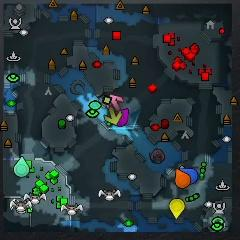p1: (179, 167, 199, 184)
p2: (14, 156, 29, 177)
p3: (116, 107, 129, 126)
p4: (169, 198, 185, 218)
p5: (173, 168, 190, 188)
x1: (108, 94, 123, 112)
x2: (104, 107, 121, 125)
